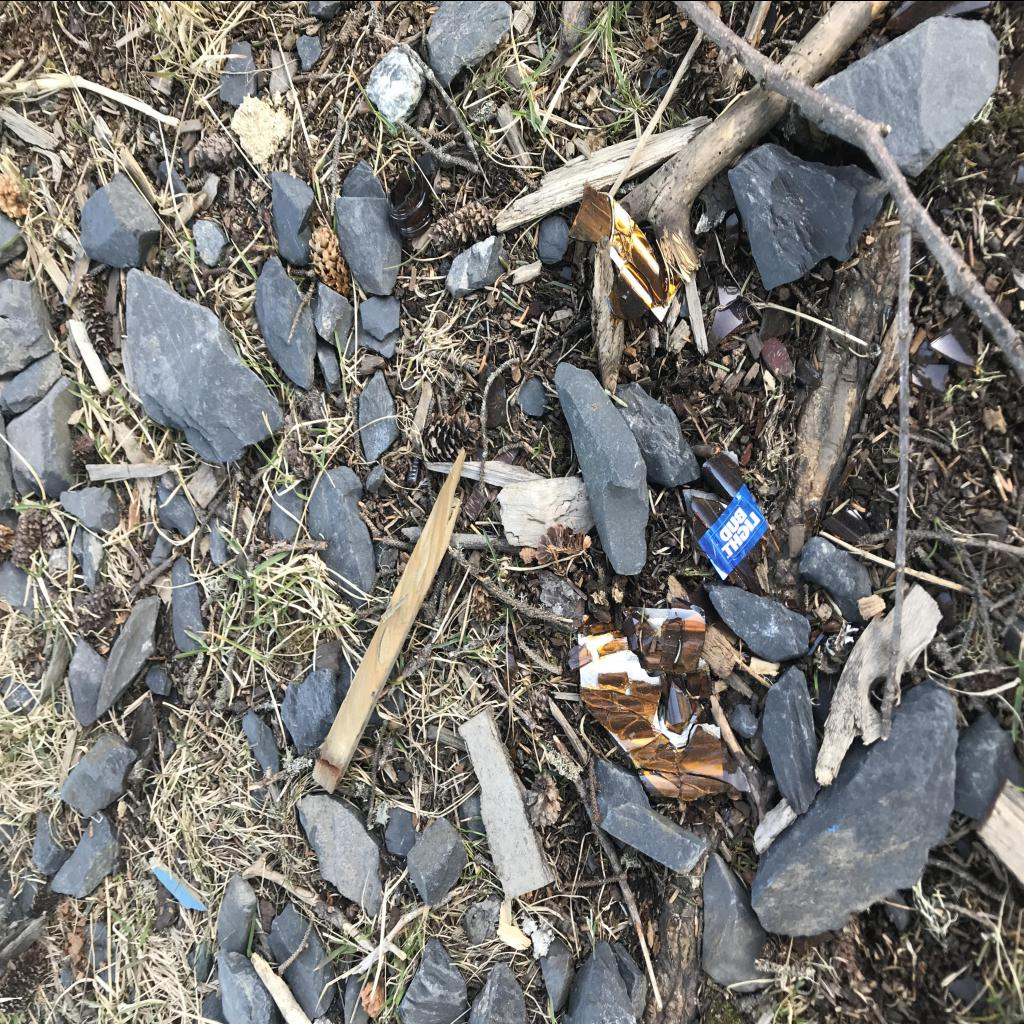Broken glass: (607, 224, 870, 596), (580, 672, 661, 740), (622, 613, 706, 671), (676, 726, 752, 790), (388, 166, 434, 238), (930, 310, 976, 369), (707, 298, 752, 355), (568, 184, 612, 242), (662, 672, 692, 734), (680, 772, 738, 799), (626, 732, 668, 766), (639, 768, 679, 798), (640, 740, 676, 772), (911, 362, 948, 392), (716, 278, 742, 306), (686, 670, 712, 698), (612, 220, 630, 258), (670, 596, 704, 616), (568, 642, 592, 668), (596, 636, 628, 655), (916, 336, 940, 360), (586, 616, 614, 634), (726, 212, 737, 256), (578, 614, 596, 636), (690, 700, 702, 724), (659, 772, 680, 784)
